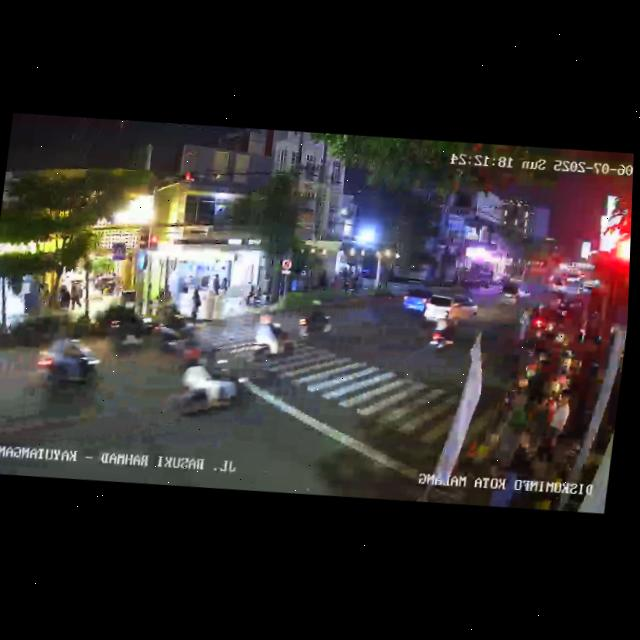car: (419, 291, 480, 332)
motorcycle: (165, 341, 257, 429), (36, 331, 107, 400), (106, 306, 158, 359), (252, 312, 297, 366), (294, 298, 339, 346), (427, 308, 461, 358), (554, 292, 571, 319)
person: (538, 386, 573, 466), (516, 309, 532, 343), (67, 280, 83, 313), (189, 287, 203, 320), (57, 281, 71, 311), (210, 275, 222, 299)
